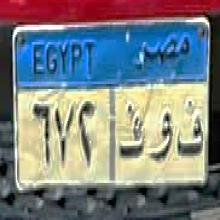2: (77, 98, 98, 168)
6: (30, 97, 50, 168)
7: (53, 98, 74, 167)
faa: (175, 95, 204, 163), (116, 104, 145, 164)
waw: (147, 104, 173, 168)
